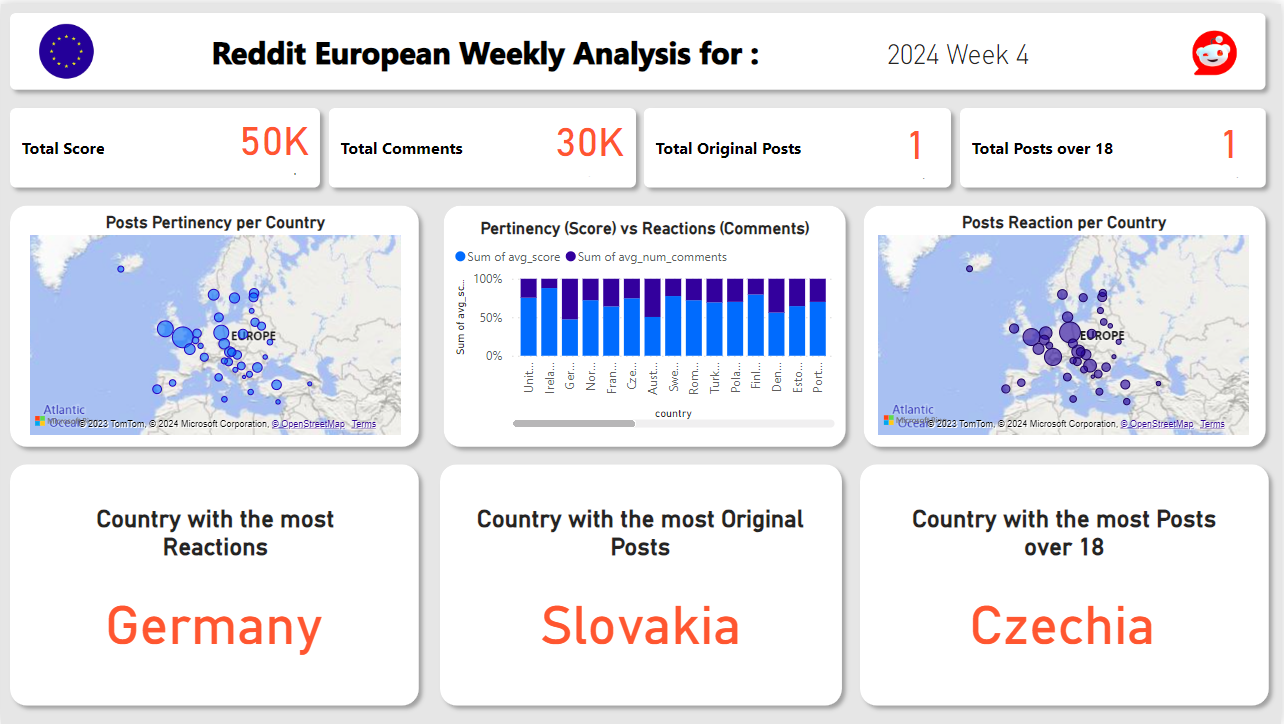

The dashboard page shown, as its layout file describes it:
{"tool":"powerbi","page":{"name":"Page 1","canvas":[1280,720],"ordinal":0},"visuals":[{"type":"shape","box":[849.4,451.5,426.8,259.3],"z":0},{"type":"shape","box":[429.5,451.5,419.9,259.3],"z":1000},{"type":"shape","box":[0,451.5,426.8,259.3],"z":2000},{"type":"shape","box":[853.5,192.1,419.9,259.3],"z":3000},{"type":"shape","box":[433.6,192.1,419.9,259.3],"z":4000},{"type":"shape","box":[0,192.1,426.8,259.3],"z":5000},{"type":"shape","box":[949.6,94.7,323.8,97.4],"z":6000},{"type":"shape","box":[634,94.7,325.2,97.4],"z":7000},{"type":"shape","box":[0,0,1273.4,94.7],"z":8000},{"type":"image","box":[15.1,0,100.2,94.7],"z":9000},{"type":"image","box":[1145.8,8.2,134.5,79.6],"z":10000},{"type":"card","fields":{"Values":["reddit_european_analysis_rows.count_18"]},"box":[1193.8,115.3,70,63.1],"z":11000},{"type":"card","fields":{"Values":["reddit_european_analysis_rows.count_original"]},"box":[879.6,116.6,70,63.1],"z":12000},{"type":"shape","box":[318.4,94.7,325.2,97.4],"z":13000},{"type":"card","fields":{"Values":["reddit_european_analysis_rows.count_comments"]},"box":[543.4,113.9,90.6,63.1],"z":14000},{"type":"shape","box":[0,94.7,328,97.4],"z":15000},{"type":"card","fields":{"Values":["reddit_european_analysis_rows.count_abs"]},"box":[227.8,112.5,90.6,63.1],"z":16000},{"type":"card","fields":{"Values":["reddit_european_analysis_rows.YearWeek"]},"box":[793.1,16.5,326.6,64.5],"z":17000},{"type":"map","title":"Posts Reaction per Country","fields":{"Category":["reddit_european_analysis_rows.country"],"X":["Avg(reddit_european_analysis_rows.Longitude)"],"Y":["Avg(reddit_european_analysis_rows.Latitude)"],"Size":["Sum(reddit_european_analysis_rows.avg_num_comments)"]},"box":[872.9,207.1,381.4,228.6],"z":18000},{"type":"map","title":"Posts Pertinency per Country","fields":{"Category":["reddit_european_analysis_rows.country"],"X":["Avg(reddit_european_analysis_rows.Longitude)"],"Y":["Avg(reddit_european_analysis_rows.Latitude)"],"Size":["Sum(reddit_european_analysis_rows.avg_score)"]},"box":[23.3,207.2,381.5,229.2],"z":19000},{"type":"hundredPercentStackedColumnChart","title":"Pertinency (Score) vs Reactions (Comments)","fields":{"Category":["reddit_european_analysis_rows.country"],"Y":["Sum(reddit_european_analysis_rows.avg_score)","Sum(reddit_european_analysis_rows.avg_num_comments)"]},"box":[448.8,213.8,390,215],"z":20000},{"type":"textbox","box":[893.8,496.2,338.8,72.5],"z":21000},{"type":"card","fields":{"Values":["reddit_european_analysis_rows.CountryWithMostPostsOver18"]},"box":[866.2,568.8,391.2,90],"z":21001},{"type":"textbox","box":[470,496.2,338.8,72.5],"z":21002},{"type":"card","fields":{"Values":["reddit_european_analysis_rows.CountryWithMostOriginalPosts"]},"box":[445,568.8,390,90],"z":21003},{"type":"textbox","box":[45,496.2,338.8,72.5],"z":21004},{"type":"card","fields":{"Values":["reddit_european_analysis_rows.CountryWithMostPostsReactions"]},"box":[13.8,568.8,400,90],"z":21005}]}

Visuals, with their boxes in screenshot pixels (x1, y1, x2, y2), scaled from the page's 1280x720 canvas onto the 1284x724 screenshot:
shape: bbox=[852, 454, 1280, 715]
shape: bbox=[431, 454, 852, 715]
shape: bbox=[0, 454, 428, 715]
shape: bbox=[856, 193, 1277, 454]
shape: bbox=[435, 193, 856, 454]
shape: bbox=[0, 193, 428, 454]
shape: bbox=[953, 95, 1277, 193]
shape: bbox=[636, 95, 962, 193]
shape: bbox=[0, 0, 1277, 95]
image: bbox=[15, 0, 116, 95]
image: bbox=[1149, 8, 1283, 88]
card - reddit_european_analysis_rows.count_18: bbox=[1198, 116, 1268, 179]
card - reddit_european_analysis_rows.count_original: bbox=[882, 117, 953, 181]
shape: bbox=[319, 95, 646, 193]
card - reddit_european_analysis_rows.count_comments: bbox=[545, 115, 636, 178]
shape: bbox=[0, 95, 329, 193]
card - reddit_european_analysis_rows.count_abs: bbox=[229, 113, 319, 177]
card - reddit_european_analysis_rows.YearWeek: bbox=[796, 17, 1123, 81]
"Posts Reaction per Country" map: bbox=[876, 208, 1258, 438]
"Posts Pertinency per Country" map: bbox=[23, 208, 406, 439]
"Pertinency (Score) vs Reactions (Comments)" hundredPercentStackedColumnChart: bbox=[450, 215, 841, 431]
textbox: bbox=[897, 499, 1236, 572]
card - reddit_european_analysis_rows.CountryWithMostPostsOver18: bbox=[869, 572, 1261, 662]
textbox: bbox=[471, 499, 811, 572]
card - reddit_european_analysis_rows.CountryWithMostOriginalPosts: bbox=[446, 572, 838, 662]
textbox: bbox=[45, 499, 385, 572]
card - reddit_european_analysis_rows.CountryWithMostPostsReactions: bbox=[14, 572, 415, 662]
